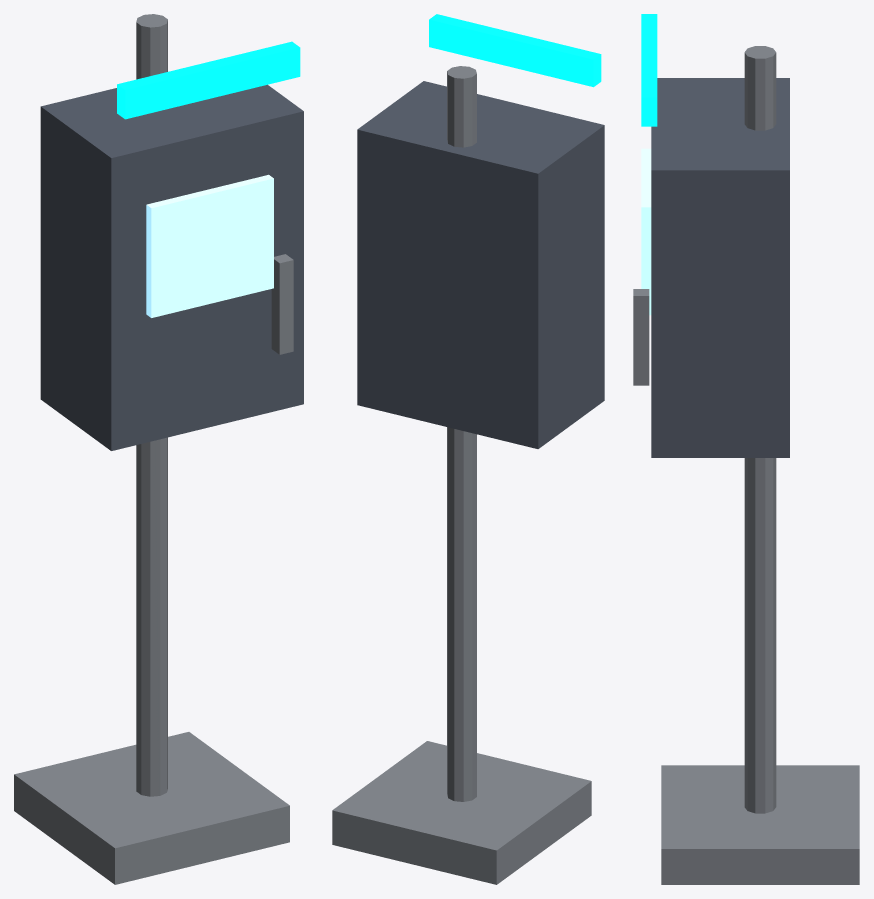
File: PROP_Payphone_Cyber.glb
The picture shows the model from 3 angles, left to right: view 1: azimuth 30°, elevation 25°; view 2: azimuth 150°, elevation 25°; view 3: azimuth 270°, elevation 25°; orthographic projection. The views are drawn at different scales.
Parts seen in each view (by area): view 1: PROP_Payphone_Cyber; view 2: PROP_Payphone_Cyber; view 3: PROP_Payphone_Cyber.
Part boxes in pixels (<box>): PROP_Payphone_Cyber: <box>14,14,303,884</box>; PROP_Payphone_Cyber: <box>332,14,604,884</box>; PROP_Payphone_Cyber: <box>633,14,859,884</box>.
Size of the model in its own units: 0.55 by 2.2 by 0.57.
